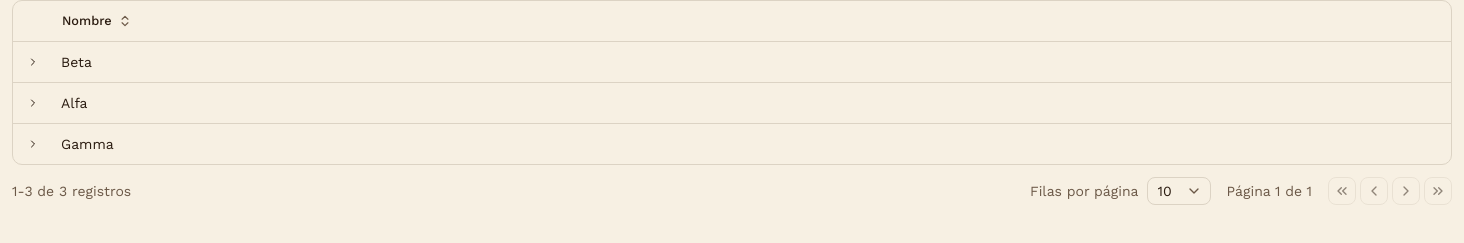
Test: DataTable › expande y contrae una fila mostrando renderSubRow
The width and height of the screenshot is (1464, 243).
Expected: the text "Detalle de Beta" is not shown
Step 1. Click the button named "Expandir fila" next to "Beta" → {"x": 33, "y": 62}, box [21,50,45,74]
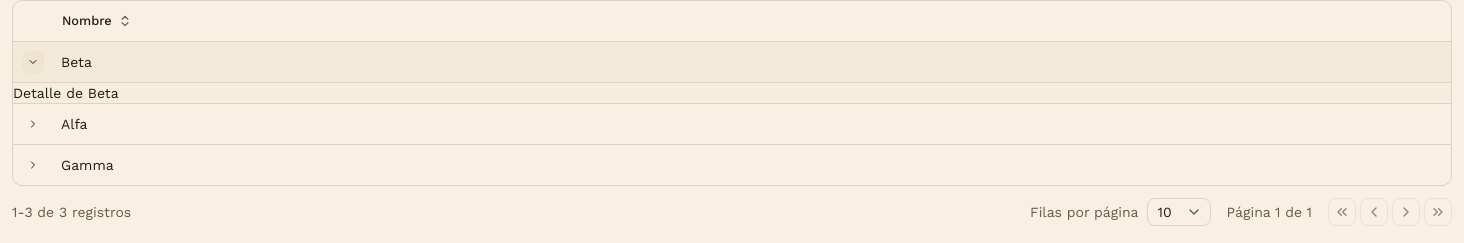
Expected: the text "Detalle de Beta" is shown, [13,84,119,100]
Step 2. Click the button named "Contraer fila" → {"x": 33, "y": 62}, box [21,50,45,74]
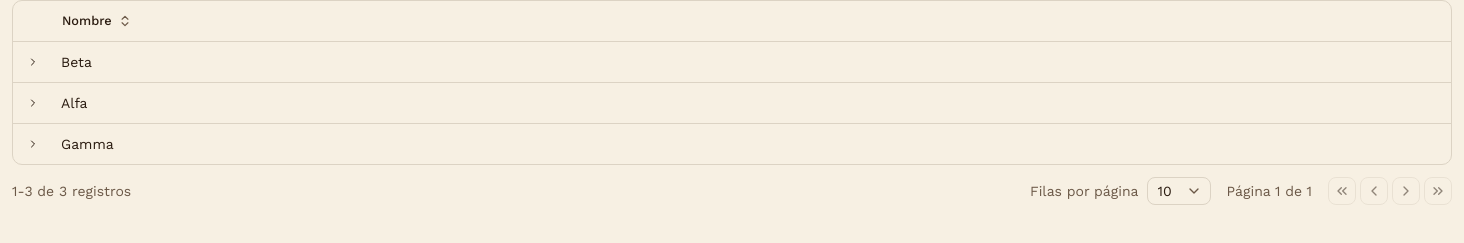
Expected: the text "Detalle de Beta" is gone
